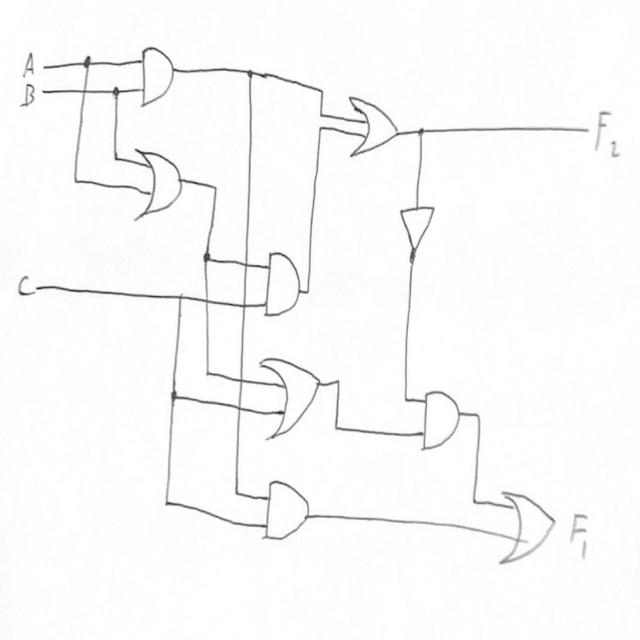AND: (261, 466, 317, 550), (418, 374, 466, 464), (134, 40, 183, 116), (263, 240, 305, 326)
NOT: (395, 198, 440, 270)
OR: (254, 345, 326, 444), (497, 478, 560, 581), (343, 83, 405, 170), (129, 141, 187, 232)
